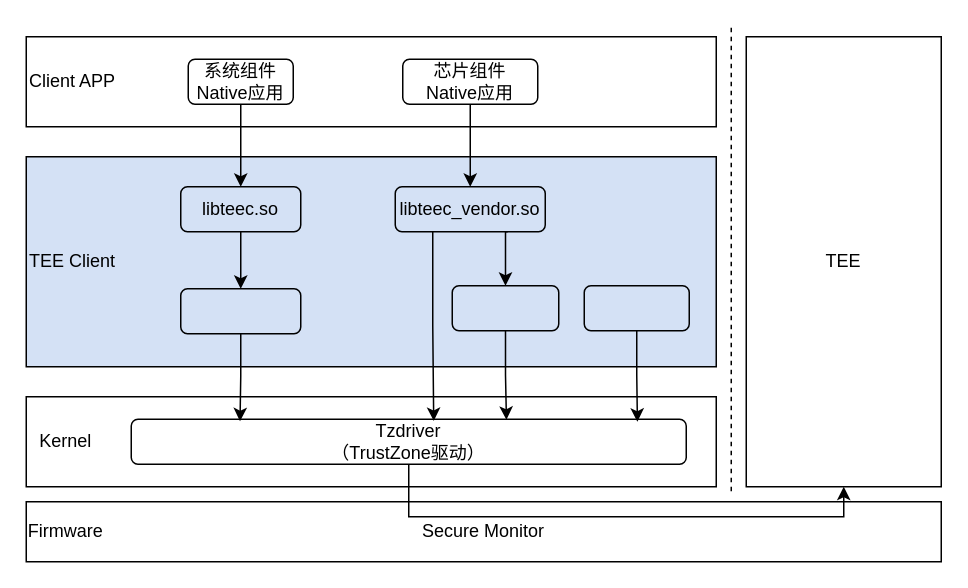
The diagram is 968 pixels wide and 588 high, and some of its shapes have lost their labels. Each missing label, with the box of its shape:
cadaemon: (179, 287, 301, 334)
teecd: (451, 284, 559, 331)
tlogcat: (583, 284, 689, 331)
